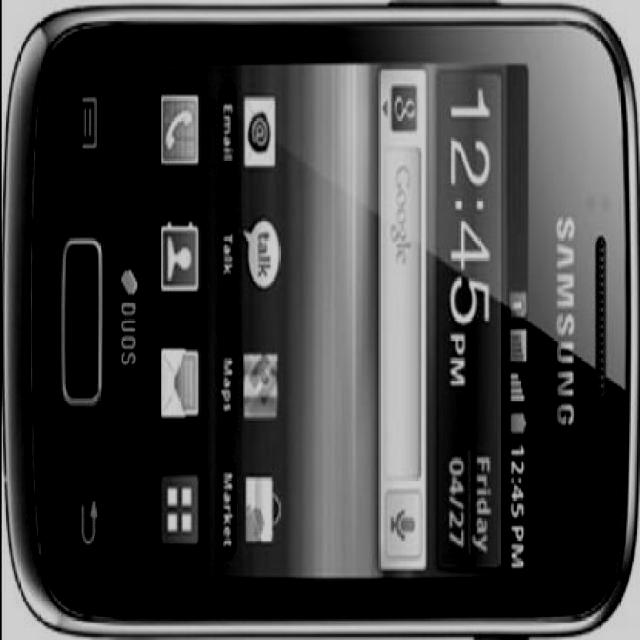fake: (40, 0, 640, 614)
